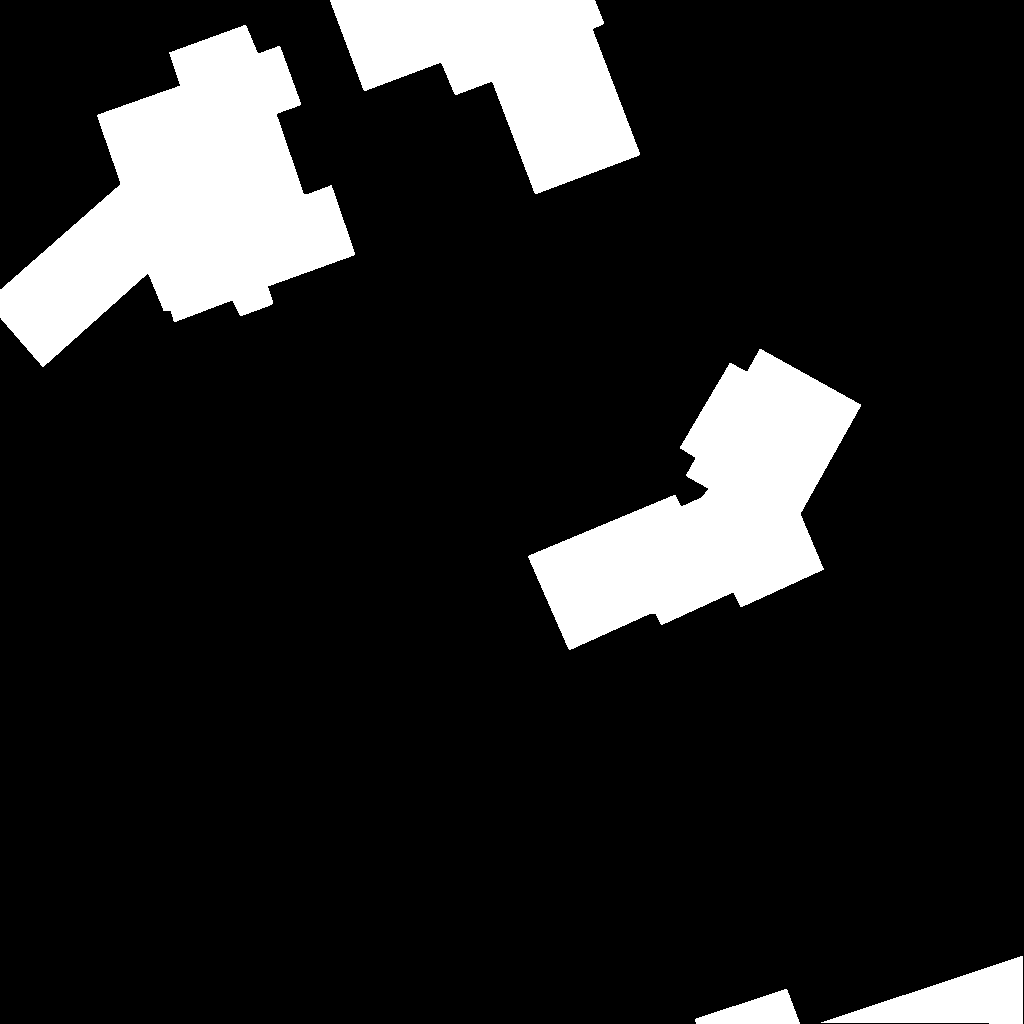building: (0, 25, 356, 368), (528, 349, 862, 651), (330, 0, 641, 195), (695, 956, 1024, 1024)
